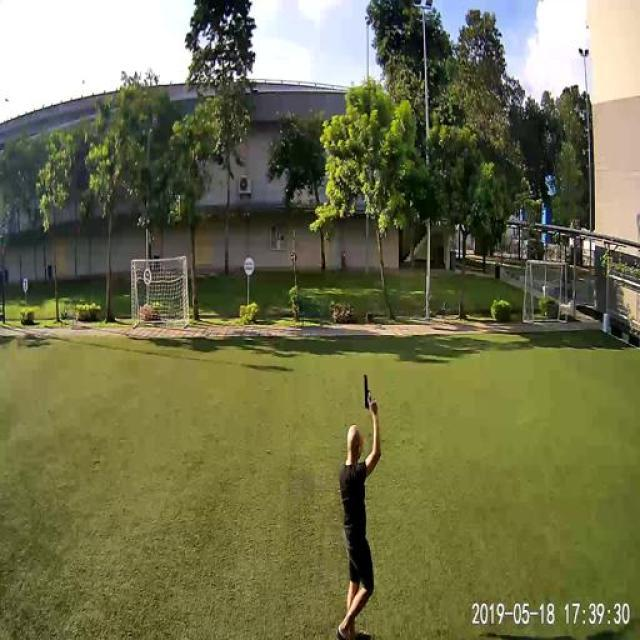Gun: (358, 366, 382, 415)
